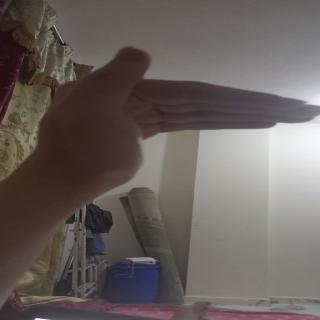KHAA: (20, 44, 320, 197)
